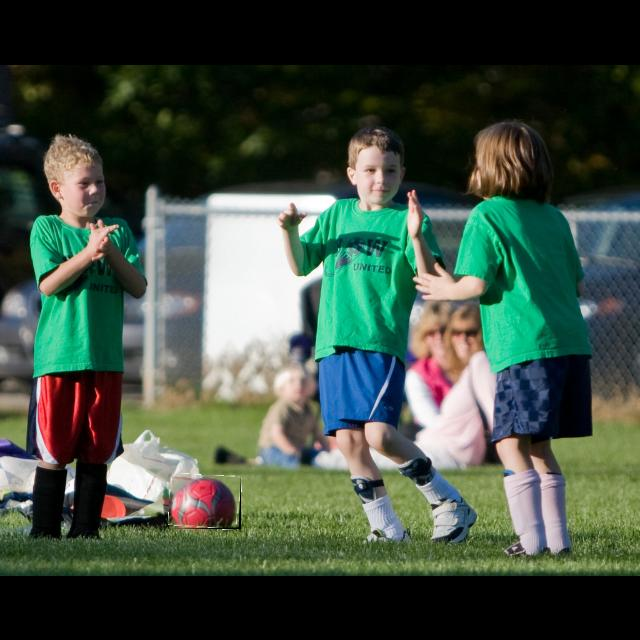Football: (169, 475, 241, 529)
